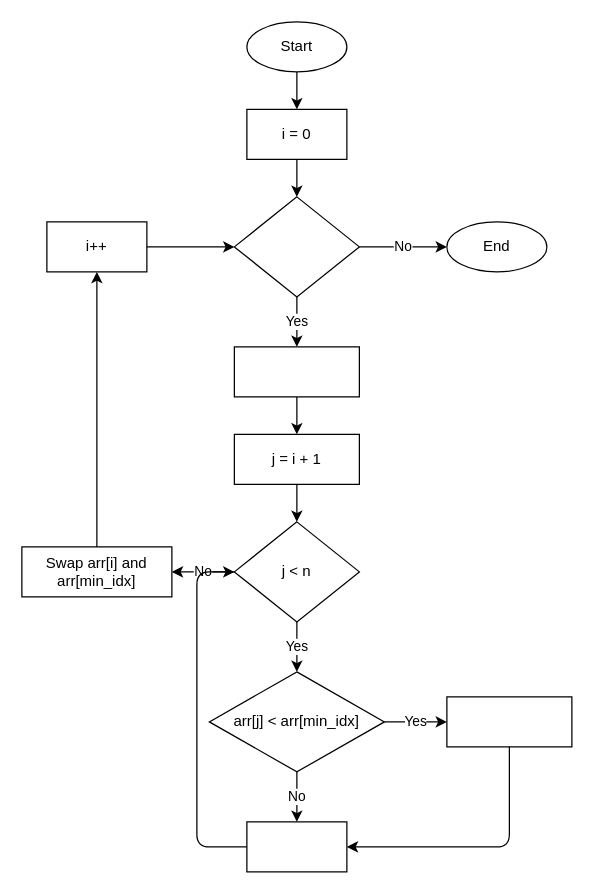
Some shapes in this 594 by 894 pixel diagram are drawn without their labels. The centre of each missing label's shape, as x and y in pixels:
"i < n - 1" belongs at [296,246].
"j++" belongs at [296,846].
"min_idx = i" belongs at [296,371].
"min_idx = j" belongs at [509,721].
